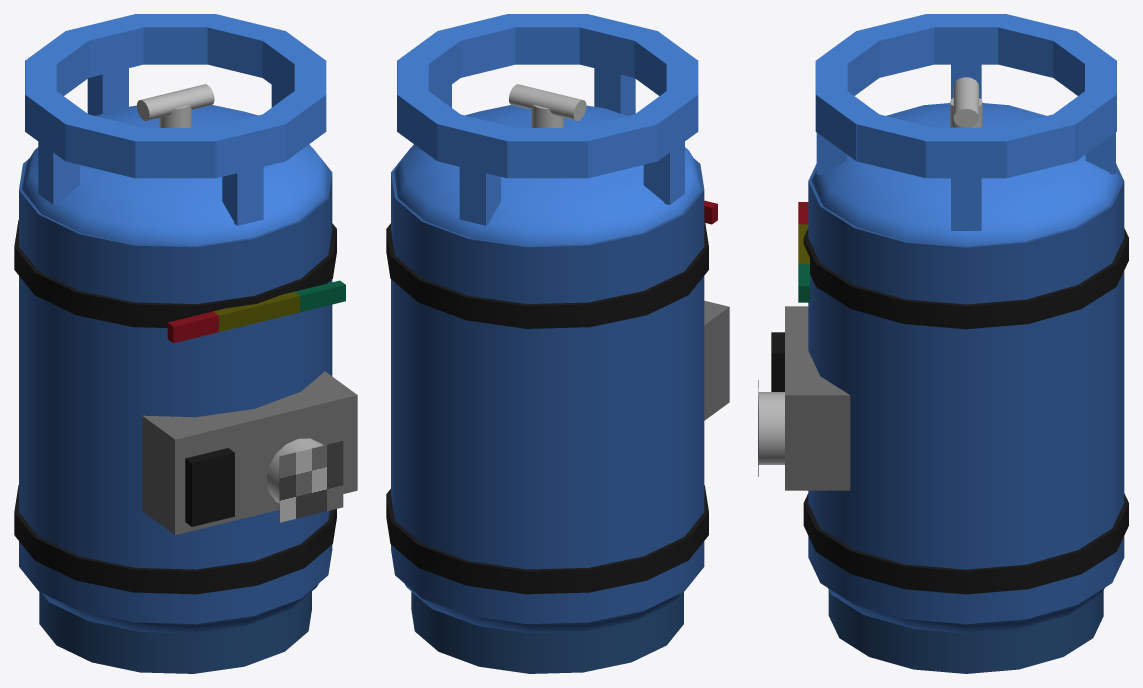
File: CMU3DBlueCanisterCloud.glb
The picture shows the model from 3 angles, left to right: view 1: azimuth 30°, elevation 25°; view 2: azimuth 150°, elevation 25°; view 3: azimuth 270°, elevation 25°; orthographic projection.
Parts seen in each view (by area): view 1: blue cylindrical pressure vessel, rounded upper vessel shoulder, gray service controller, blue foot ring, black retaining hoop 0.17, black retaining hoop 0.67, dial original markings, open crown rim segment 09, open crown rim segment 10, open crown rim segment 08, open crown rim segment 03, black outlet opening (+18 smaller); view 2: blue cylindrical pressure vessel, rounded upper vessel shoulder, blue foot ring, black retaining hoop 0.67, black retaining hoop 0.17, open crown rim segment 05, open crown rim segment 04, open crown rim segment 06, open crown rim segment 11, open crown rim segment 10, open crown rim segment 12, gray service controller (+12 smaller); view 3: blue cylindrical pressure vessel, rounded upper vessel shoulder, blue foot ring, gray service controller, black retaining hoop 0.17, black retaining hoop 0.67, open crown rim segment 01, open crown rim segment 02, open crown rim segment 12, open crown rim segment 07, open crown rim segment 08, open crown rim segment 06 (+14 smaller).
Boxes of the visible parts, left/top/right/bottom form: blue cylindrical pressure vessel: left=19, top=148, right=332, bottom=624; rounded upper vessel shoulder: left=22, top=105, right=329, bottom=245; gray service controller: left=142, top=371, right=357, bottom=534; blue foot ring: left=39, top=591, right=311, bottom=673; black retaining hoop 0.17: left=14, top=485, right=336, bottom=594; black retaining hoop 0.67: left=14, top=220, right=336, bottom=327; dial original markings: left=279, top=441, right=343, bottom=522; open crown rim segment 09: left=135, top=128, right=216, bottom=178; open crown rim segment 10: left=200, top=112, right=285, bottom=178; open crown rim segment 08: left=65, top=113, right=150, bottom=178; open crown rim segment 03: left=135, top=14, right=216, bottom=64; black outlet opening: left=185, top=448, right=234, bottom=526; blue cylindrical pressure vessel: left=391, top=148, right=704, bottom=624; rounded upper vessel shoulder: left=394, top=105, right=701, bottom=245; blue foot ring: left=411, top=591, right=683, bottom=673; black retaining hoop 0.67: left=386, top=220, right=708, bottom=328; black retaining hoop 0.17: left=386, top=485, right=708, bottom=594; open crown rim segment 05: left=507, top=128, right=588, bottom=178; open crown rim segment 04: left=437, top=112, right=522, bottom=178; open crown rim segment 06: left=575, top=112, right=657, bottom=178; open crown rim segment 11: left=507, top=14, right=588, bottom=64; open crown rim segment 10: left=572, top=14, right=657, bottom=77; open crown rim segment 12: left=437, top=14, right=515, bottom=77; gray service controller: left=704, top=300, right=729, bottom=420; blue cylindrical pressure vessel: left=808, top=164, right=1124, bottom=624; rounded upper vessel shoulder: left=811, top=103, right=1120, bottom=246; blue foot ring: left=828, top=590, right=1103, bottom=673; gray service controller: left=785, top=306, right=850, bottom=490; black retaining hoop 0.17: left=803, top=493, right=1128, bottom=594; black retaining hoop 0.67: left=803, top=228, right=1128, bottom=329; open crown rim segment 01: left=925, top=127, right=1006, bottom=178; open crown rim segment 02: left=991, top=113, right=1076, bottom=177; open crown rim segment 12: left=856, top=113, right=940, bottom=177; open crown rim segment 07: left=926, top=14, right=1005, bottom=64; open crown rim segment 08: left=856, top=14, right=941, bottom=77; open crown rim segment 06: left=991, top=14, right=1075, bottom=77.
Bounding box in the file's own units: 0.556 × 1.01 × 0.634.
10 materials, 1 textured.
